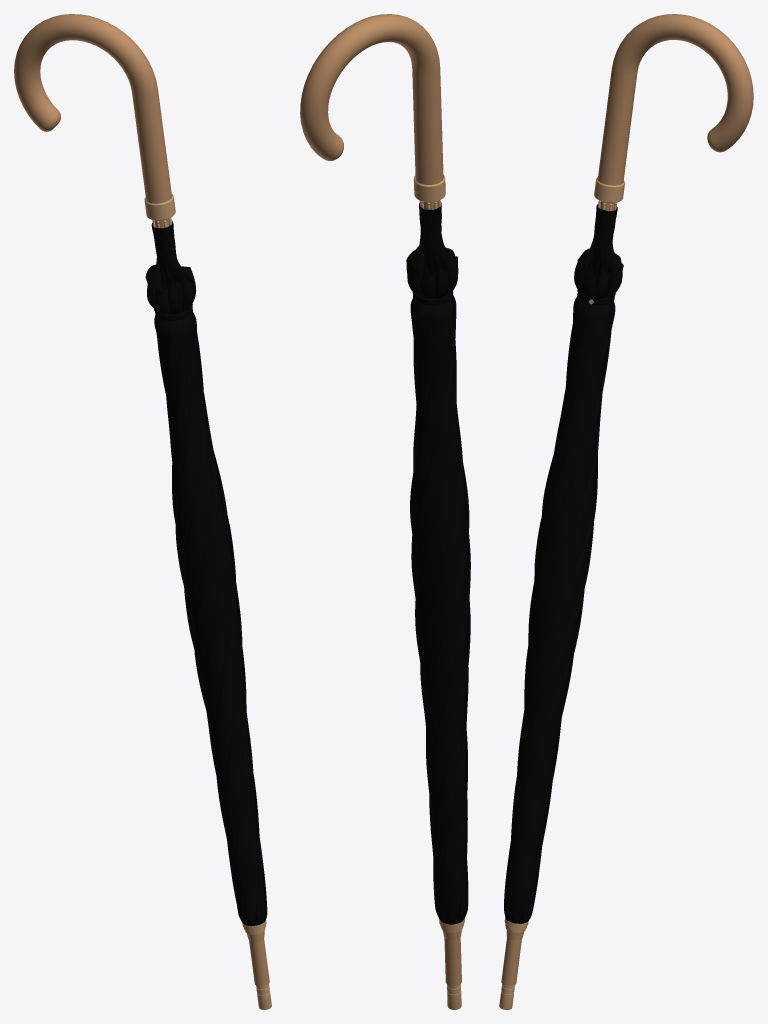
File: ombrello.fbx
The picture shows the model from 3 angles, left to right: view 1: azimuth 90°, elevation 25°; view 2: azimuth 150°, elevation 25°; view 3: azimuth 270°, elevation 25°; orthographic projection. The views are drawn at different scales.
Visible parts, largest first — view 1: UmbrellaCanvas, UmbrellaHandle; view 2: UmbrellaCanvas, UmbrellaHandle; view 3: UmbrellaCanvas, UmbrellaHandle.
Part boxes in pixels (left/top/right/bottom): UmbrellaCanvas: left=145, top=221, right=267, bottom=926; UmbrellaHandle: left=14, top=14, right=271, bottom=1009; UmbrellaCanvas: left=406, top=201, right=470, bottom=924; UmbrellaHandle: left=300, top=14, right=464, bottom=1009; UmbrellaCanvas: left=504, top=204, right=623, bottom=923; UmbrellaHandle: left=499, top=14, right=753, bottom=1009.
Size of the model in its own units: 6.69 by 88.17 by 20.64.
